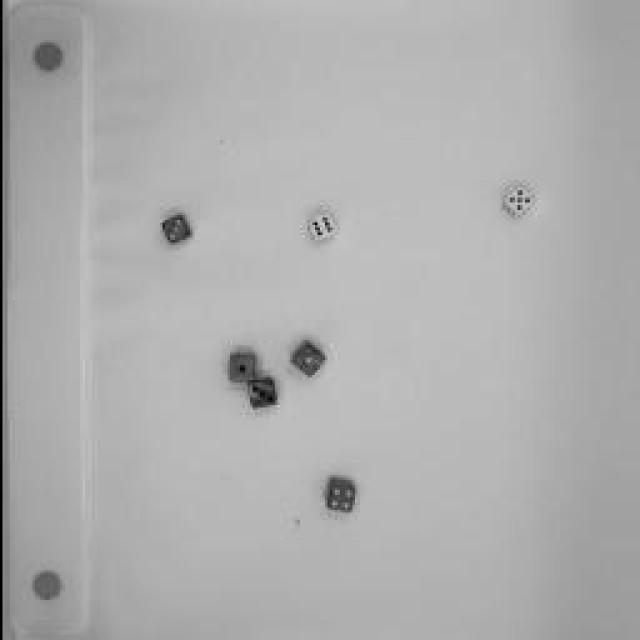dice_1: (285, 336, 325, 384), (224, 350, 256, 385)
dice_3: (242, 374, 276, 408), (158, 211, 190, 244)
dice_4: (322, 476, 358, 514)
dice_5: (498, 185, 534, 217)
dice_6: (302, 213, 338, 245)
